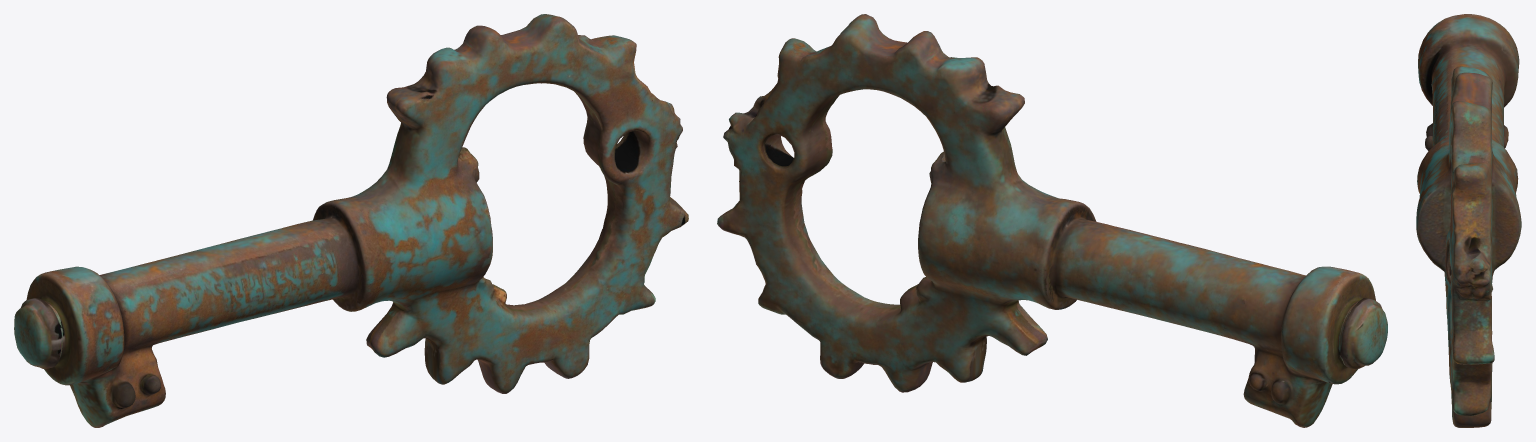
3 views of the same model, side by side, from view 1: azimuth 30°, elevation 25°; view 2: azimuth 150°, elevation 25°; view 3: azimuth 270°, elevation 25° (orthographic). The views are drawn at different scales.
Visible parts, largest first — view 1: Mesh1.0; view 2: Mesh1.0; view 3: Mesh1.0.
Part boxes in pixels (<box>): Mesh1.0: <box>14,14,688,427</box>; Mesh1.0: <box>717,14,1387,427</box>; Mesh1.0: <box>1416,14,1521,427</box>.
Bounding box in the file's own units: 200 × 106 × 31.6.
1 material, 1 textured.
